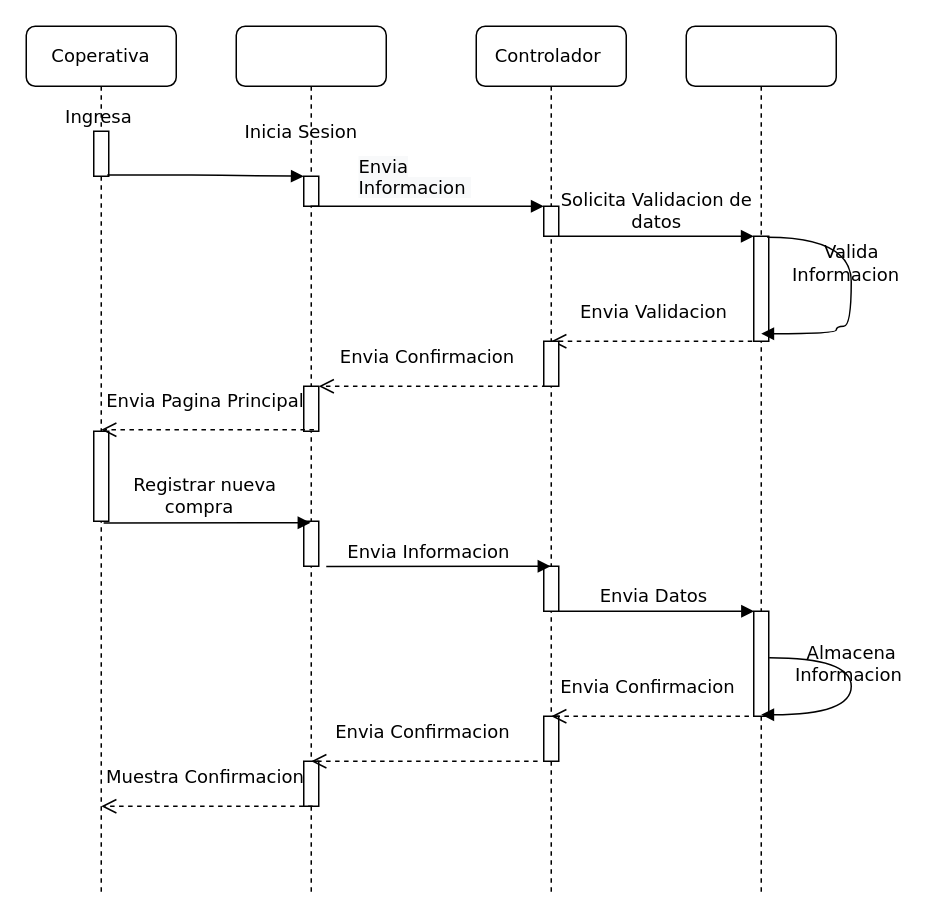
This 936x923 diagram has some shape labels left out. The shapes that lost their labels are listed below. From the top down, each one's box as (x1, y1, x2, y2) in pixels, then its label:
(235, 25, 386, 896): Sistema
(685, 25, 836, 896): Base de Datos
